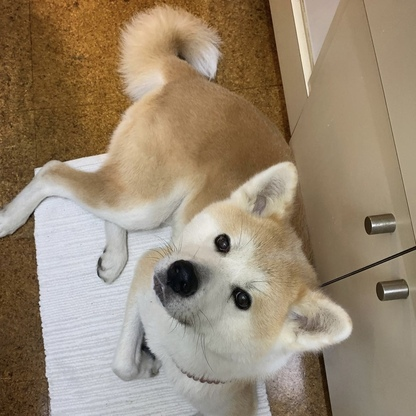akita: (1, 1, 360, 416)
